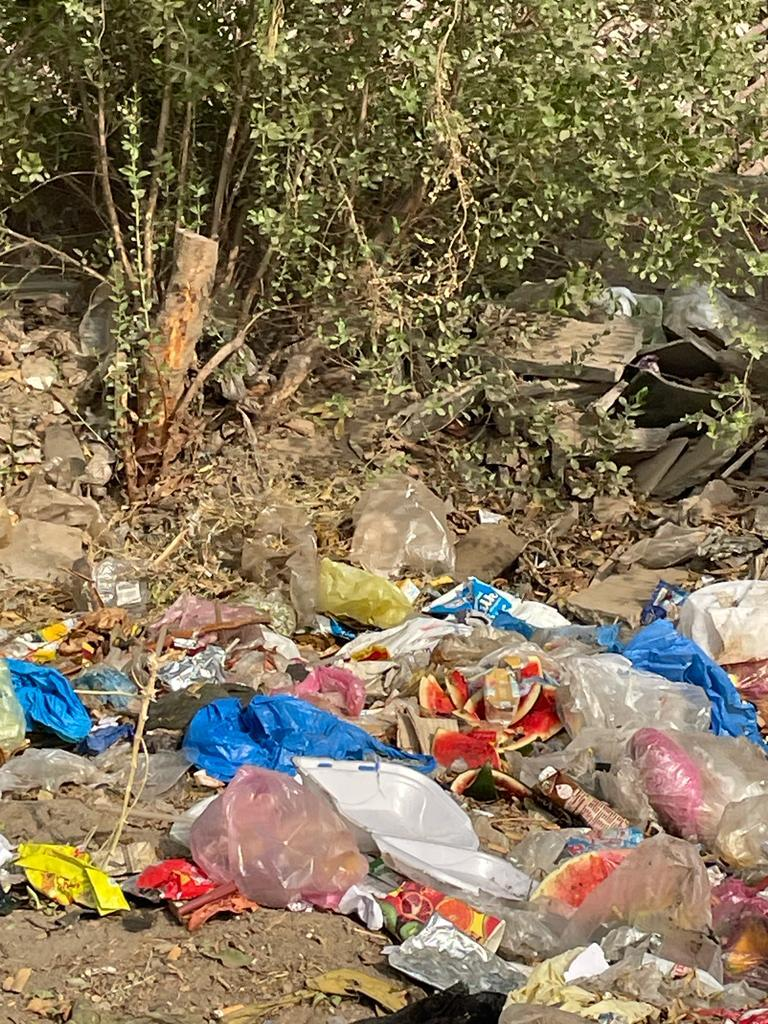garbage: (0, 439, 768, 1024)
